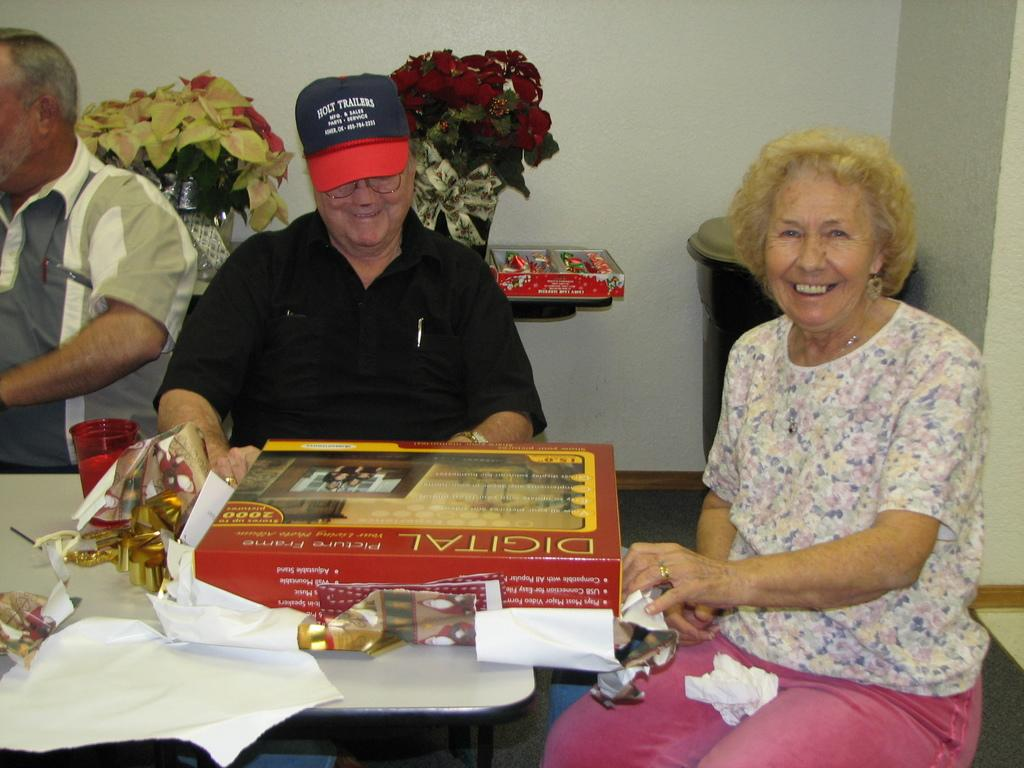Hat: (293, 70, 413, 188)
